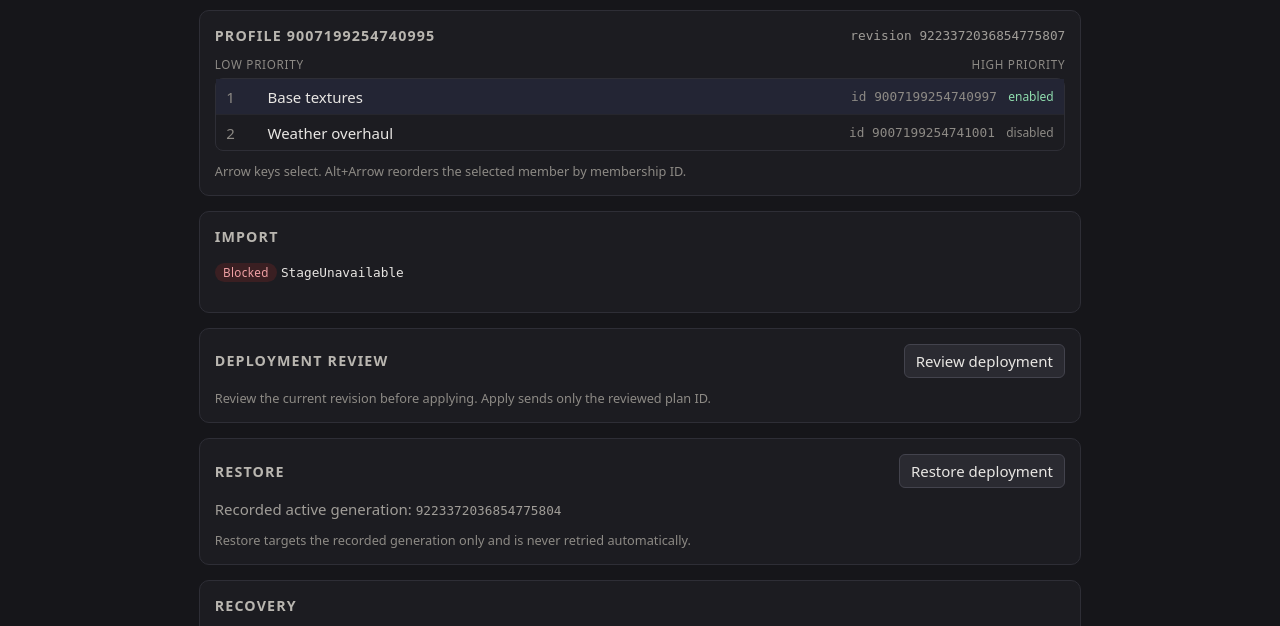
Test case: workspace shell › still announces a clean completed Apply as accepted
(page scrolled)
Expected: the text "revision 9223372036854775807" is shown, [850,28,1065,43]
Click the button "Review deployment".
click(984, 361)  # box [904,344,1065,378]
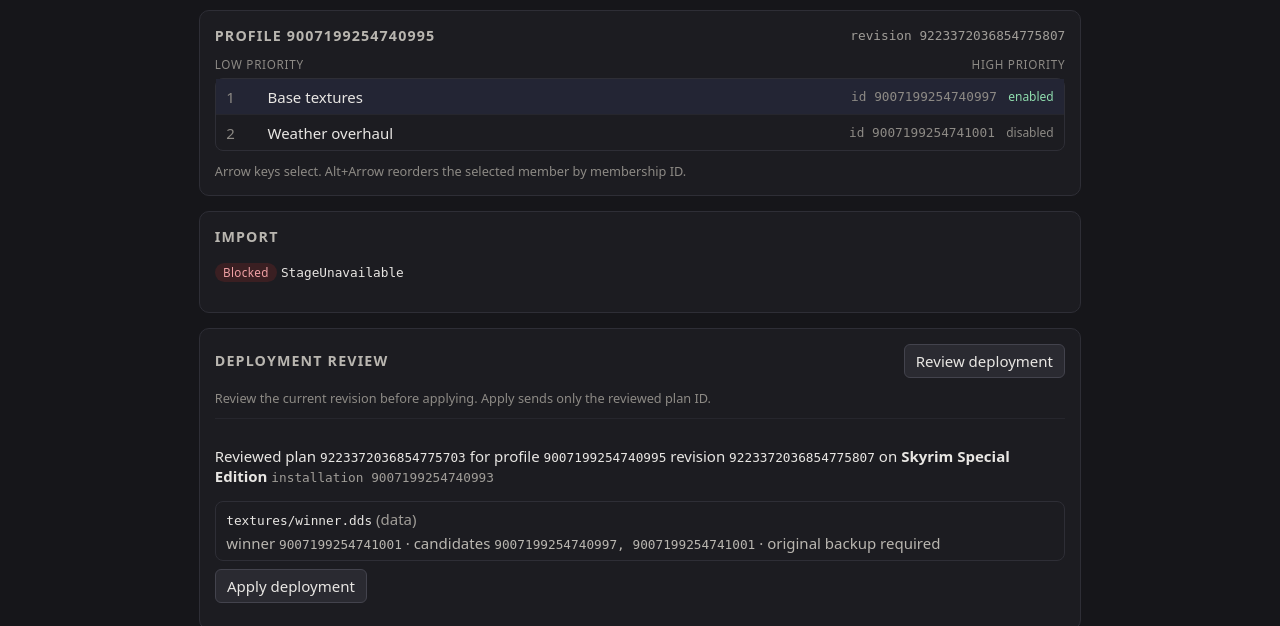
Click the button "Apply deployment".
click(291, 586)  # box [215,569,367,603]
(page scrolled)
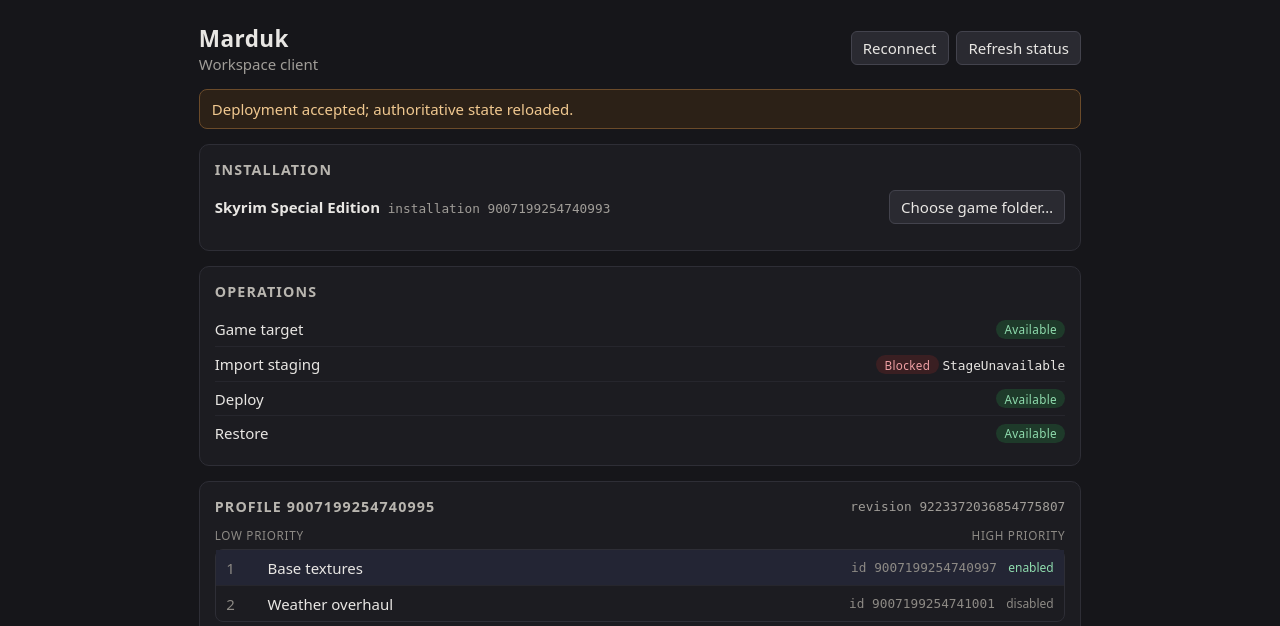
Now the message reads "Deployment accepted; authoritative state reloaded.", box [212,98,573,118]
